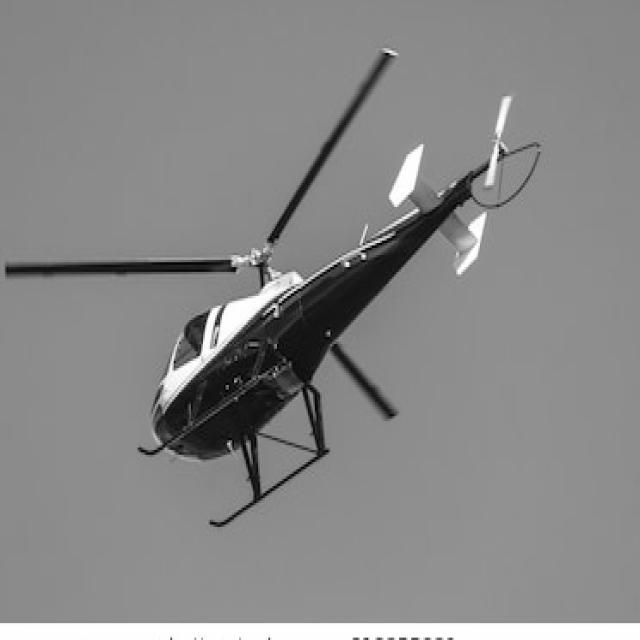helicopter: (5, 49, 521, 528)
